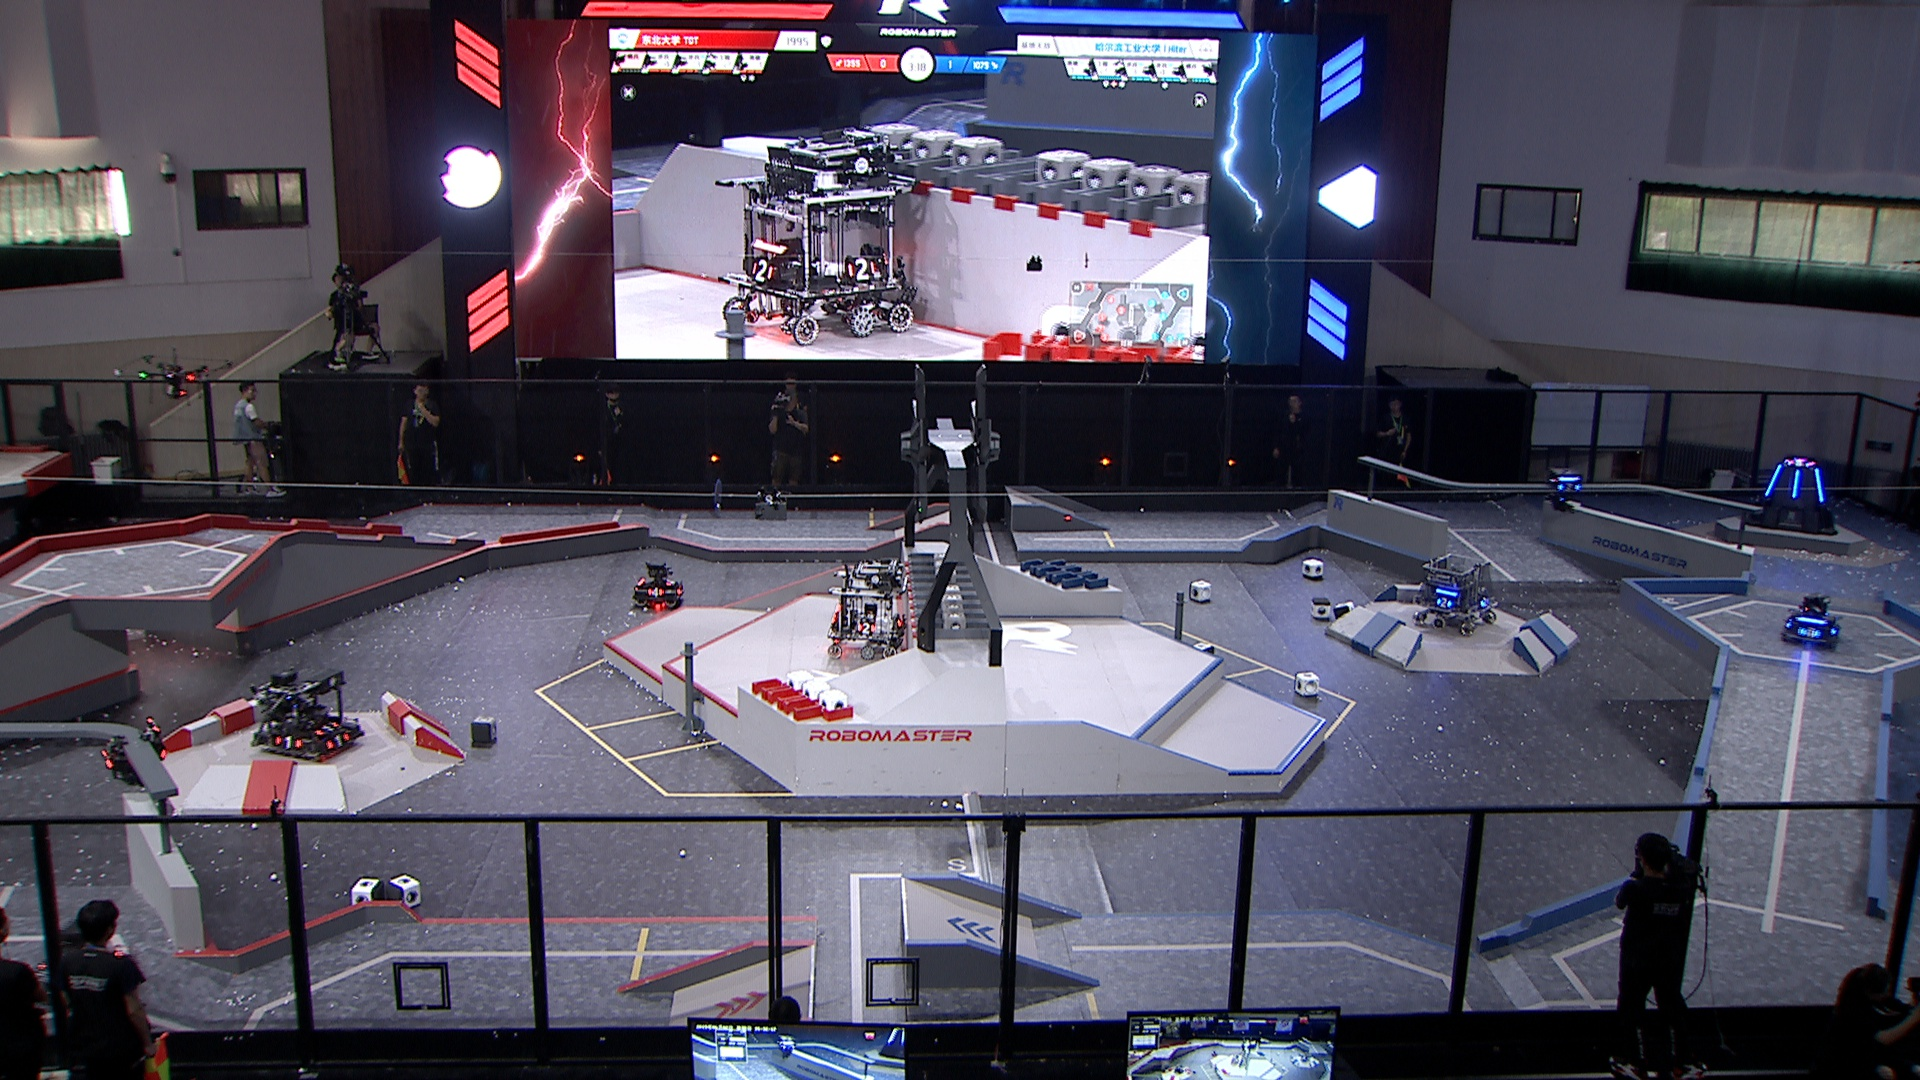armor: (1762, 460, 1784, 498), (268, 731, 306, 752), (309, 716, 339, 737), (324, 732, 353, 752), (1812, 465, 1826, 505), (98, 745, 115, 774), (1789, 465, 1803, 500), (1799, 624, 1821, 641), (1432, 593, 1453, 611), (1557, 481, 1582, 495), (856, 621, 878, 636), (645, 585, 665, 599), (1480, 593, 1494, 611), (665, 572, 678, 589)
base: (1741, 455, 1840, 535)
car: (17, 913, 131, 1019), (245, 669, 359, 764), (828, 559, 910, 659), (1411, 547, 1501, 636), (1782, 589, 1844, 647), (629, 560, 686, 613)
ignore: (719, 128, 920, 342), (1785, 456, 1812, 469)
watcher: (96, 716, 171, 793), (1547, 467, 1584, 516)
